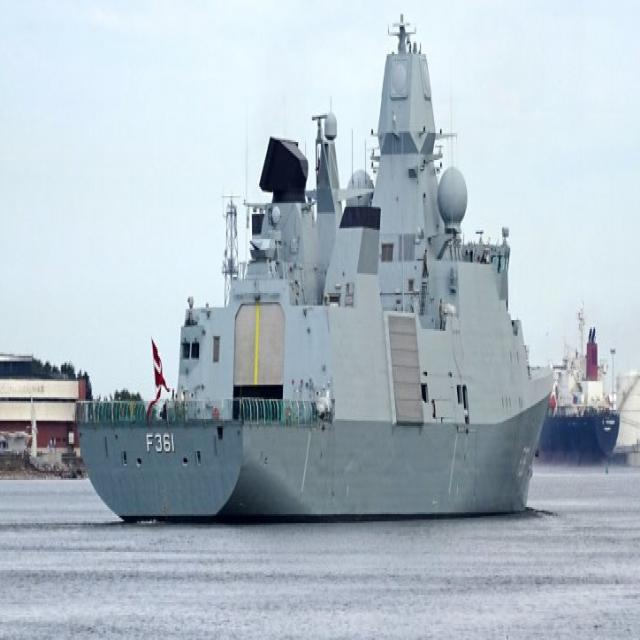Fragata: (72, 1, 560, 533)
